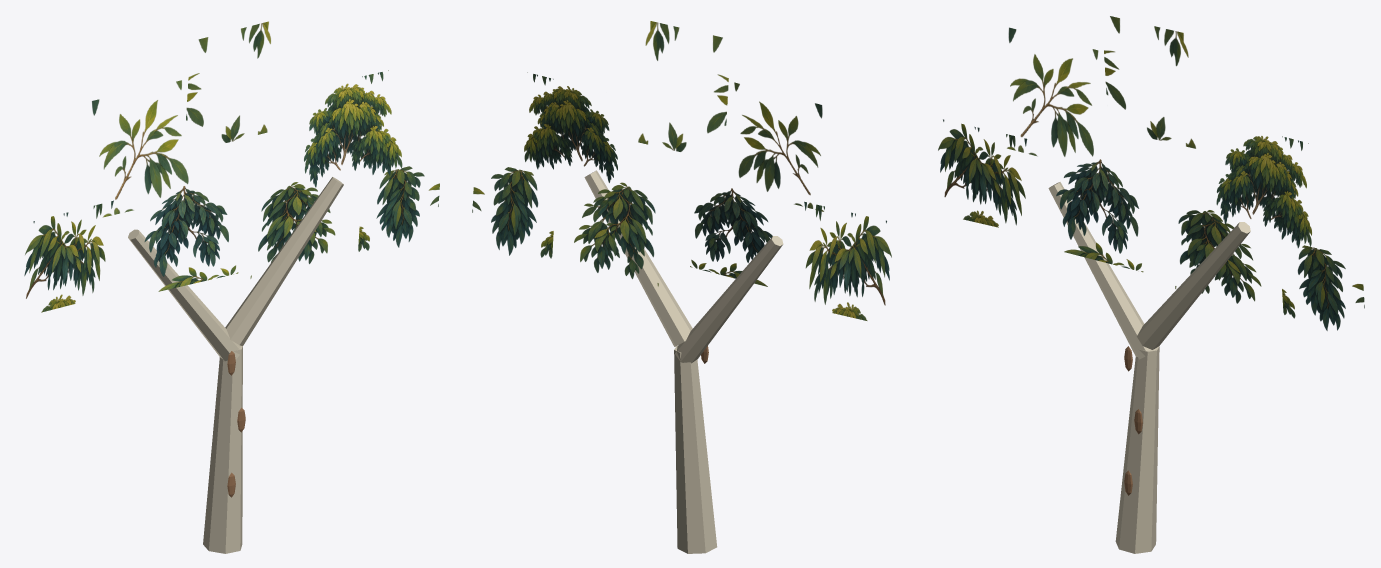
Rendered from TREE_EUCALYPTUS_001_LOD_MAP.glb.
3 views of the same model, side by side, from view 1: azimuth 30°, elevation 25°; view 2: azimuth 150°, elevation 25°; view 3: azimuth 330°, elevation 25° (orthographic).
Visible parts, largest first — view 1: GG_EUC_BODY_ISLAND_03_CLUSTER_00, GG_EUC_V2_BRANCH_00, GG_EUC_BODY_ISLAND_05_CLUSTER_00, GG_EUC_BODY_ISLAND_00_CLUSTER_00, GG_EUC_V2_BRANCH_02, GG_EUC_BODY_ISLAND_01_CLUSTER_00, GG_EUC_BODY_ISLAND_06_CLUSTER_00, GG_EUC_BODY_ISLAND_04_CLUSTER_00, GG_EUC_V2_BRANCH_01, GG_EUC_BODY_ISLAND_02_CLUSTER_00; view 2: GG_EUC_V2_BRANCH_00, GG_EUC_BODY_ISLAND_03_CLUSTER_00, GG_EUC_BODY_ISLAND_00_CLUSTER_00, GG_EUC_BODY_ISLAND_06_CLUSTER_00, GG_EUC_BODY_ISLAND_05_CLUSTER_00, GG_EUC_BODY_ISLAND_04_CLUSTER_00, GG_EUC_V2_BRANCH_01, GG_EUC_BODY_ISLAND_01_CLUSTER_00, GG_EUC_V2_BRANCH_02, GG_EUC_BODY_ISLAND_02_CLUSTER_00; view 3: GG_EUC_V2_BRANCH_00, GG_EUC_BODY_ISLAND_03_CLUSTER_00, GG_EUC_BODY_ISLAND_05_CLUSTER_00, GG_EUC_BODY_ISLAND_00_CLUSTER_00, GG_EUC_BODY_ISLAND_06_CLUSTER_00, GG_EUC_V2_BRANCH_02, GG_EUC_BODY_ISLAND_01_CLUSTER_00, GG_EUC_BODY_ISLAND_04_CLUSTER_00, GG_EUC_V2_BRANCH_01, GG_EUC_BODY_ISLAND_02_CLUSTER_00.
Boxes of the visible parts, left/top/right/bottom form: GG_EUC_BODY_ISLAND_03_CLUSTER_00: left=304, top=70, right=402, bottom=187; GG_EUC_V2_BRANCH_00: left=203, top=346, right=242, bottom=553; GG_EUC_BODY_ISLAND_05_CLUSTER_00: left=144, top=186, right=238, bottom=291; GG_EUC_BODY_ISLAND_00_CLUSTER_00: left=24, top=200, right=113, bottom=312; GG_EUC_V2_BRANCH_02: left=225, top=177, right=343, bottom=345; GG_EUC_BODY_ISLAND_01_CLUSTER_00: left=92, top=80, right=188, bottom=217; GG_EUC_BODY_ISLAND_06_CLUSTER_00: left=250, top=182, right=335, bottom=278; GG_EUC_BODY_ISLAND_04_CLUSTER_00: left=358, top=166, right=439, bottom=251; GG_EUC_V2_BRANCH_01: left=128, top=229, right=240, bottom=361; GG_EUC_BODY_ISLAND_02_CLUSTER_00: left=186, top=21, right=270, bottom=142; GG_EUC_V2_BRANCH_00: left=674, top=345, right=717, bottom=553; GG_EUC_BODY_ISLAND_03_CLUSTER_00: left=524, top=72, right=617, bottom=182; GG_EUC_BODY_ISLAND_00_CLUSTER_00: left=804, top=201, right=891, bottom=320; GG_EUC_BODY_ISLAND_06_CLUSTER_00: left=574, top=182, right=658, bottom=286; GG_EUC_BODY_ISLAND_05_CLUSTER_00: left=690, top=188, right=772, bottom=286; GG_EUC_BODY_ISLAND_04_CLUSTER_00: left=472, top=167, right=553, bottom=258; GG_EUC_V2_BRANCH_01: left=675, top=236, right=783, bottom=363; GG_EUC_BODY_ISLAND_01_CLUSTER_00: left=734, top=82, right=823, bottom=211; GG_EUC_V2_BRANCH_02: left=584, top=170, right=692, bottom=346; GG_EUC_BODY_ISLAND_02_CLUSTER_00: left=638, top=21, right=728, bottom=151; GG_EUC_V2_BRANCH_00: left=1115, top=346, right=1159, bottom=553; GG_EUC_BODY_ISLAND_03_CLUSTER_00: left=1216, top=136, right=1311, bottom=248; GG_EUC_BODY_ISLAND_05_CLUSTER_00: left=1056, top=159, right=1143, bottom=272; GG_EUC_BODY_ISLAND_00_CLUSTER_00: left=938, top=119, right=1027, bottom=227; GG_EUC_BODY_ISLAND_06_CLUSTER_00: left=1175, top=210, right=1261, bottom=303; GG_EUC_V2_BRANCH_02: left=1137, top=222, right=1250, bottom=349; GG_EUC_BODY_ISLAND_01_CLUSTER_00: left=1007, top=27, right=1098, bottom=156; GG_EUC_BODY_ISLAND_04_CLUSTER_00: left=1282, top=245, right=1364, bottom=330; GG_EUC_V2_BRANCH_01: left=1048, top=182, right=1156, bottom=359; GG_EUC_BODY_ISLAND_02_CLUSTER_00: left=1104, top=16, right=1195, bottom=148.
Bounding box in the file's own units: 5.99 × 6.96 × 0.4788.
Materials: 3 (1 with a texture image).
